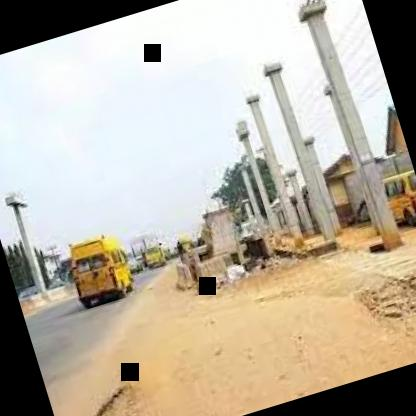car: (58, 222, 142, 316), (348, 148, 416, 249), (122, 201, 176, 279)
